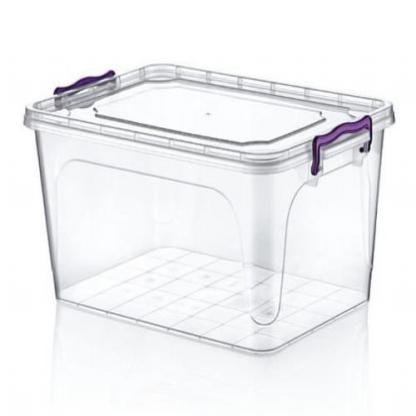plastic_box: (14, 40, 401, 364)
